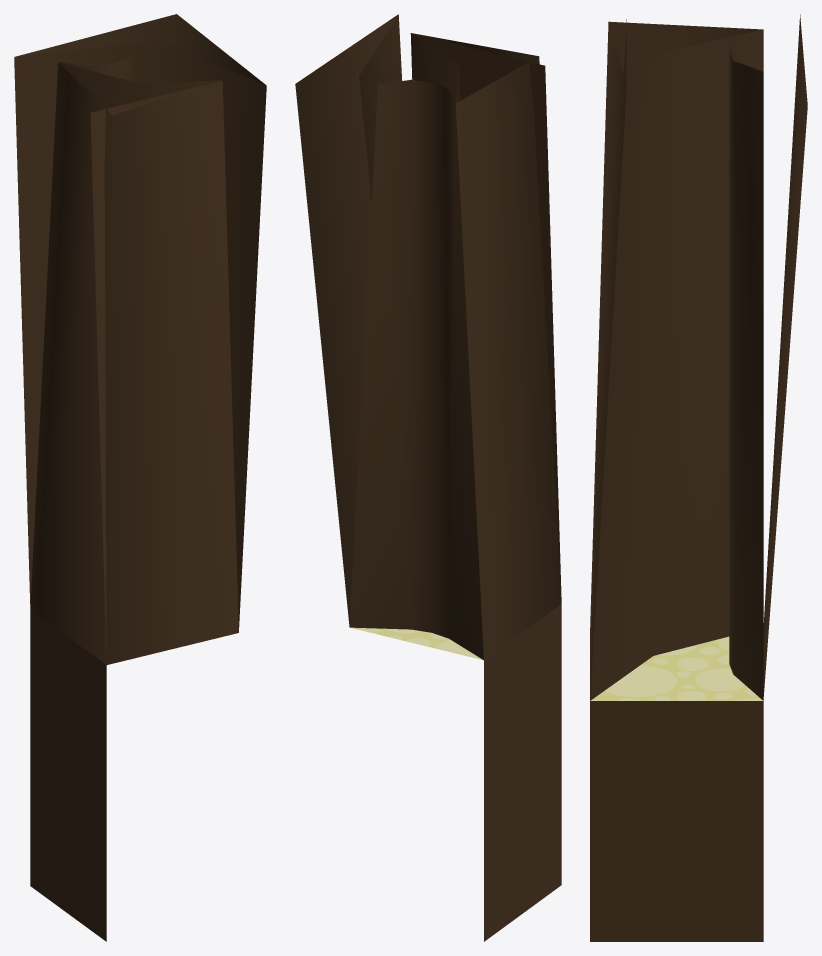
Rendered from pieces.dae.
The picture shows the model from 3 angles, left to right: view 1: azimuth 30°, elevation 25°; view 2: azimuth 150°, elevation 25°; view 3: azimuth 270°, elevation 25°; orthographic projection. The views are drawn at different scales.
Visible parts, largest first — view 1: wall_outer_sharp-col, wall_inner-col, cliff_cover-col, wall-col, wall_inner_sharp-col, wall_outer-col, wall_cap-col; view 2: wall_cap-col, wall_outer_sharp-col, wall_inner_sharp-col, cliff_cover-col, wall-col, wall_inner-col, wall_outer-col, floor-col; view 3: wall_outer-col, cliff_cover-col, wall_cap-col, wall_outer_sharp-col, floor-col, wall_inner_sharp-col.
Part boxes in pixels (box(x1,y1,x2,y2)): wall_outer_sharp-col: box(30, 62, 238, 664); wall_inner-col: box(14, 40, 266, 630); cliff_cover-col: box(30, 609, 106, 941); wall-col: box(90, 81, 220, 659); wall_inner_sharp-col: box(15, 14, 265, 84); wall_outer-col: box(58, 62, 221, 108); wall_cap-col: box(60, 44, 134, 81); wall_cap-col: box(349, 79, 483, 659); wall_outer_sharp-col: box(413, 33, 561, 659); wall_inner_sharp-col: box(295, 14, 398, 626); cliff_cover-col: box(484, 604, 561, 941); wall-col: box(411, 33, 561, 599); wall_inner-col: box(359, 14, 402, 202); wall_outer-col: box(410, 33, 460, 103); floor-col: box(350, 627, 483, 660); wall_outer-col: box(590, 29, 762, 700); cliff_cover-col: box(590, 701, 763, 941); wall_cap-col: box(729, 29, 763, 700); wall_outer_sharp-col: box(590, 21, 762, 700); floor-col: box(590, 636, 762, 700); wall_inner_sharp-col: box(763, 14, 807, 696).
Size of the model in its own units: 2.51 by 2.51 by 11.81.
2 materials, 1 textured.
